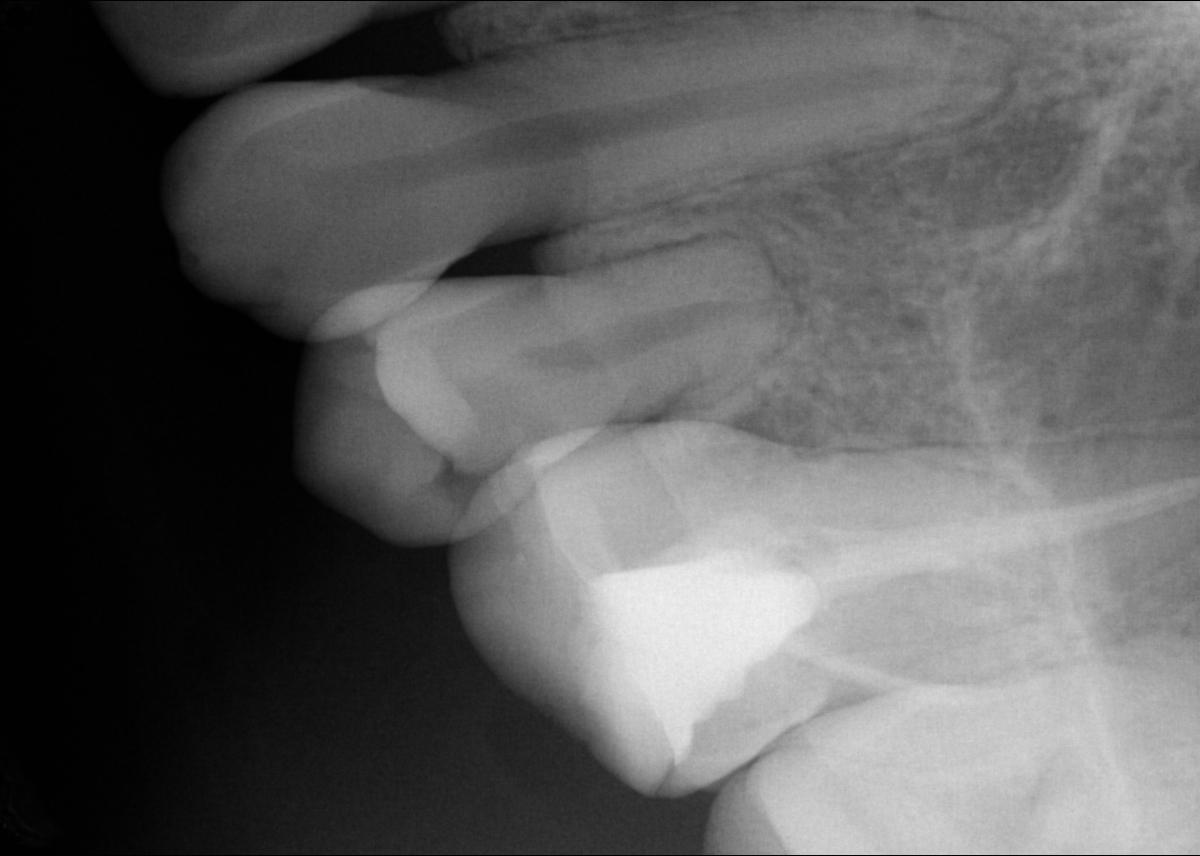Furcation Involvement: (909, 5, 1022, 141)
